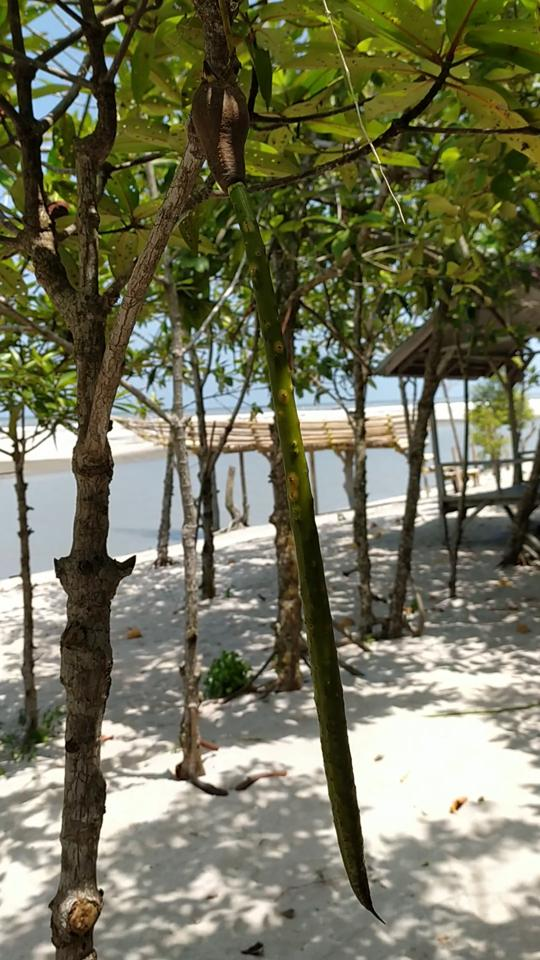setengah matang: (171, 64, 389, 927)
